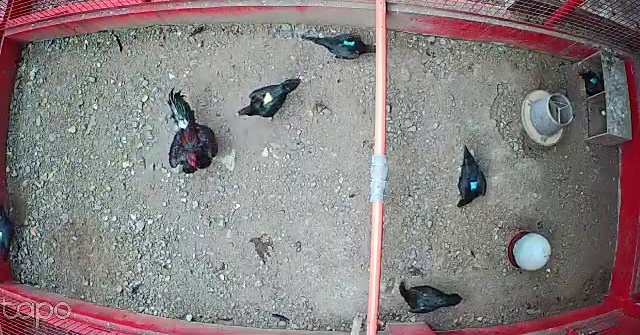Chicken: (397, 276, 466, 319), (451, 141, 493, 207), (0, 207, 28, 264)
Rooster: (161, 87, 225, 174), (302, 26, 381, 67), (234, 75, 302, 122)
Saddle_Color_Blue: (469, 180, 478, 189)
Saddle_Color_Yellow: (259, 94, 273, 106)
